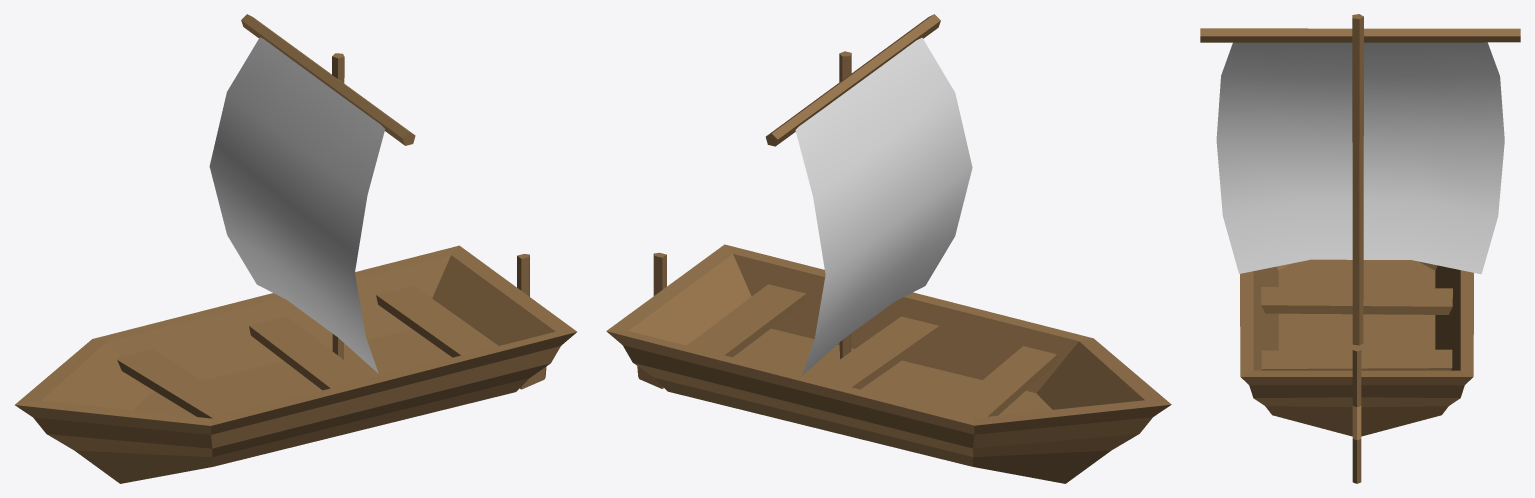
The model's file is boat_01.fbx.
3 renders of one model, left to right at view 1: azimuth 30°, elevation 25°; view 2: azimuth 150°, elevation 25°; view 3: azimuth 270°, elevation 25°, orthographic.
Parts seen in each view (by area): view 1: boat_01; view 2: boat_01; view 3: boat_01.
Boxes of the visible parts, box(x1,y1,x2,y2) form: boat_01: box(15, 14, 576, 483); boat_01: box(606, 14, 1171, 483); boat_01: box(1200, 14, 1520, 483).
Bounding box in the file's own units: 483 × 325 × 254.
